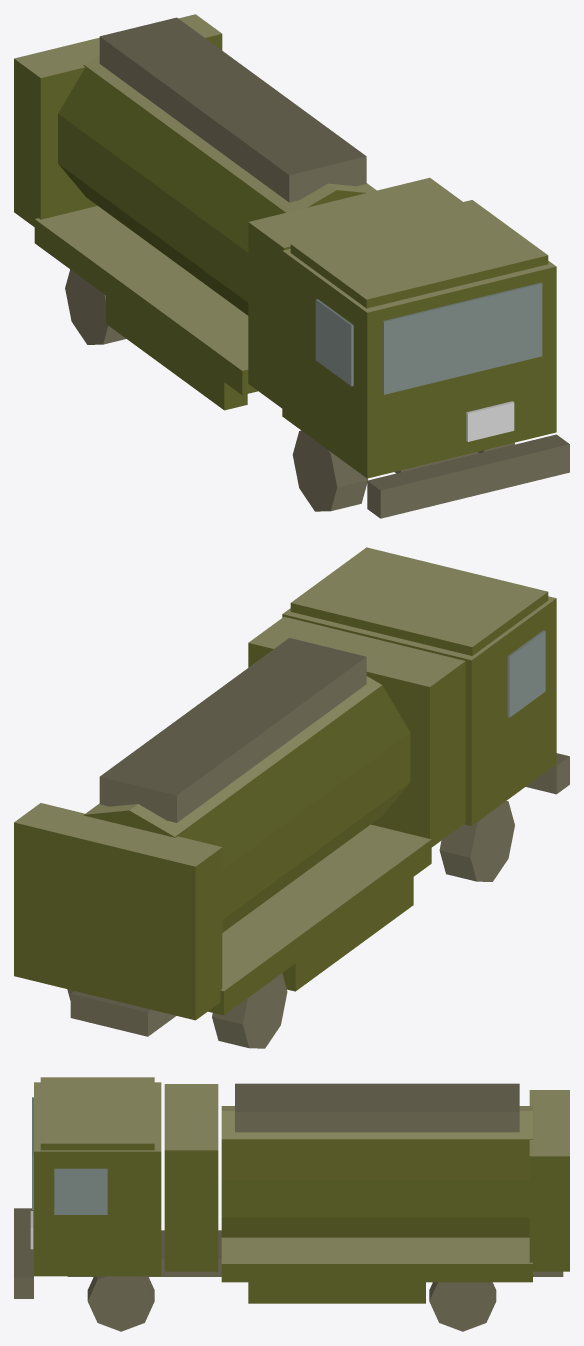
File: SM_CamionCisterna_v0_Aparcado_LOD1.fbx
The picture shows the model from 3 angles, top to bottom: view 1: azimuth 30°, elevation 25°; view 2: azimuth 150°, elevation 25°; view 3: azimuth 270°, elevation 25°; orthographic projection. The views are drawn at different scales.
Parts seen in each view (by area): view 1: SM_camion_cisterna_v0_LOD1; view 2: SM_camion_cisterna_v0_LOD1; view 3: SM_camion_cisterna_v0_LOD1.
Part boxes in pixels (<box>): SM_camion_cisterna_v0_LOD1: <box>14,14,569,518</box>; SM_camion_cisterna_v0_LOD1: <box>14,547,569,1048</box>; SM_camion_cisterna_v0_LOD1: <box>14,1077,569,1331</box>.
Bounding box in the file's own units: 2.51 × 3.32 × 8.3.
